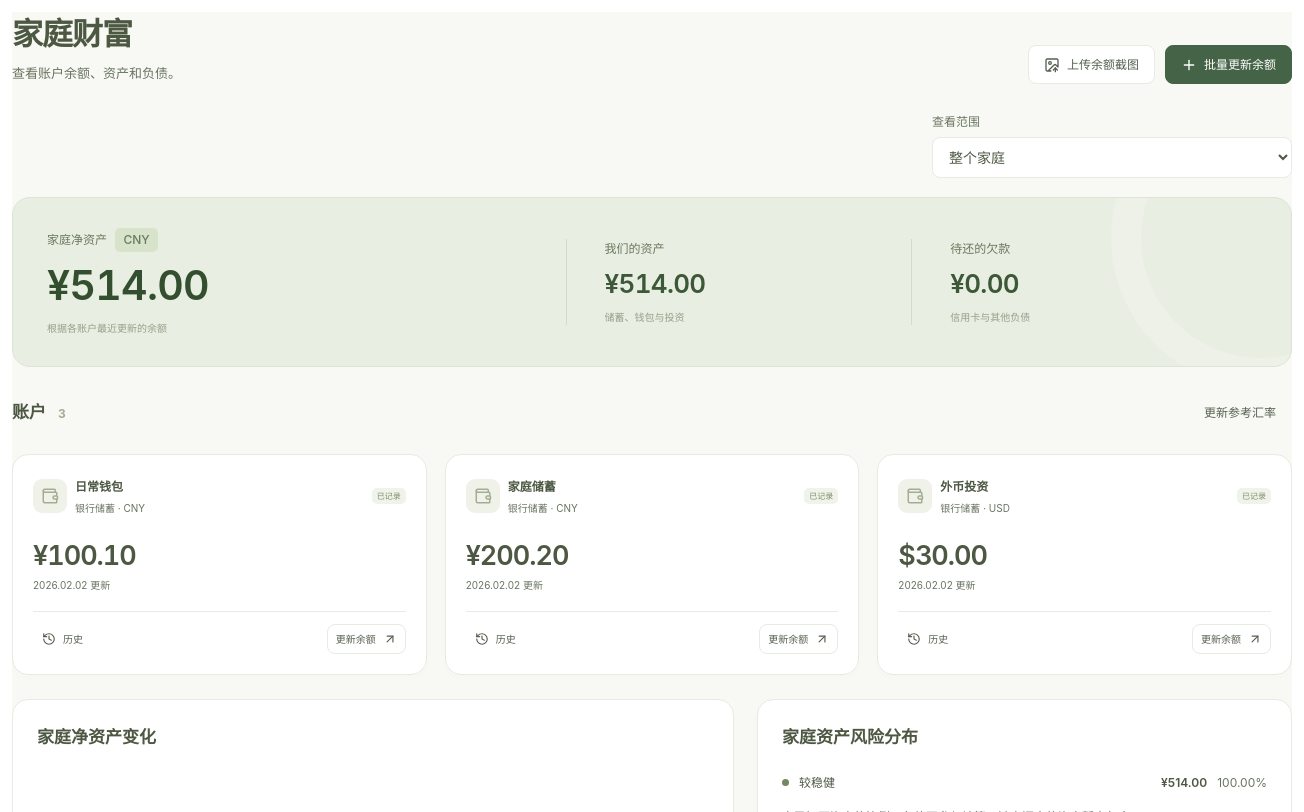
Test case: uses real member names and filters report accounts, totals and risk without changing shared family sections
Check: the text "家庭净资产" is shown, box [47,232,107,247]
Select "小林" in the dropdown named "财富账户归属": (1112,158) [932,137,1292,178]
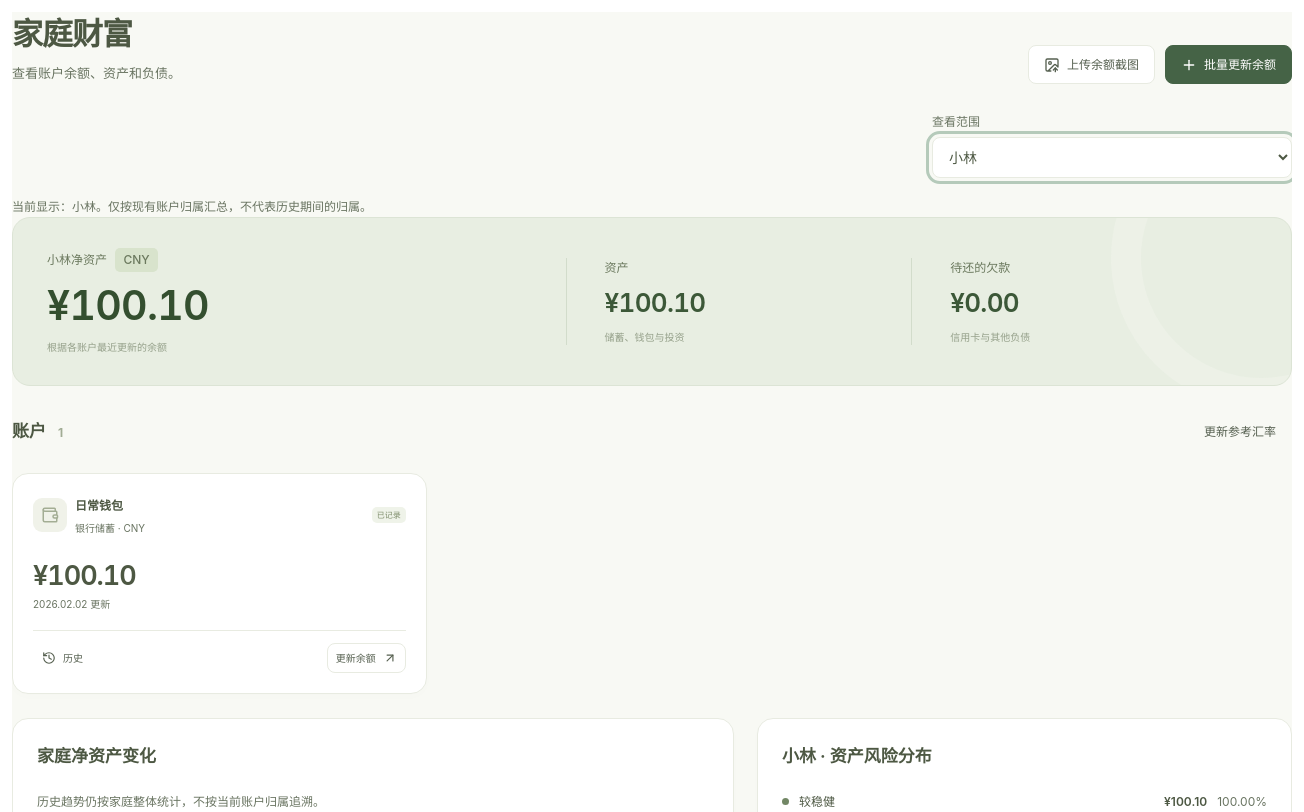
Check: the text "小林净资产" is shown, box [47,252,107,267]
Check: the text with class "count" reads "1", box [58,425,63,440]
Check: the text "家庭储蓄" is gone
Select "小夏" in the dropdown named "财富账户归属": (1112,158) [932,137,1292,178]
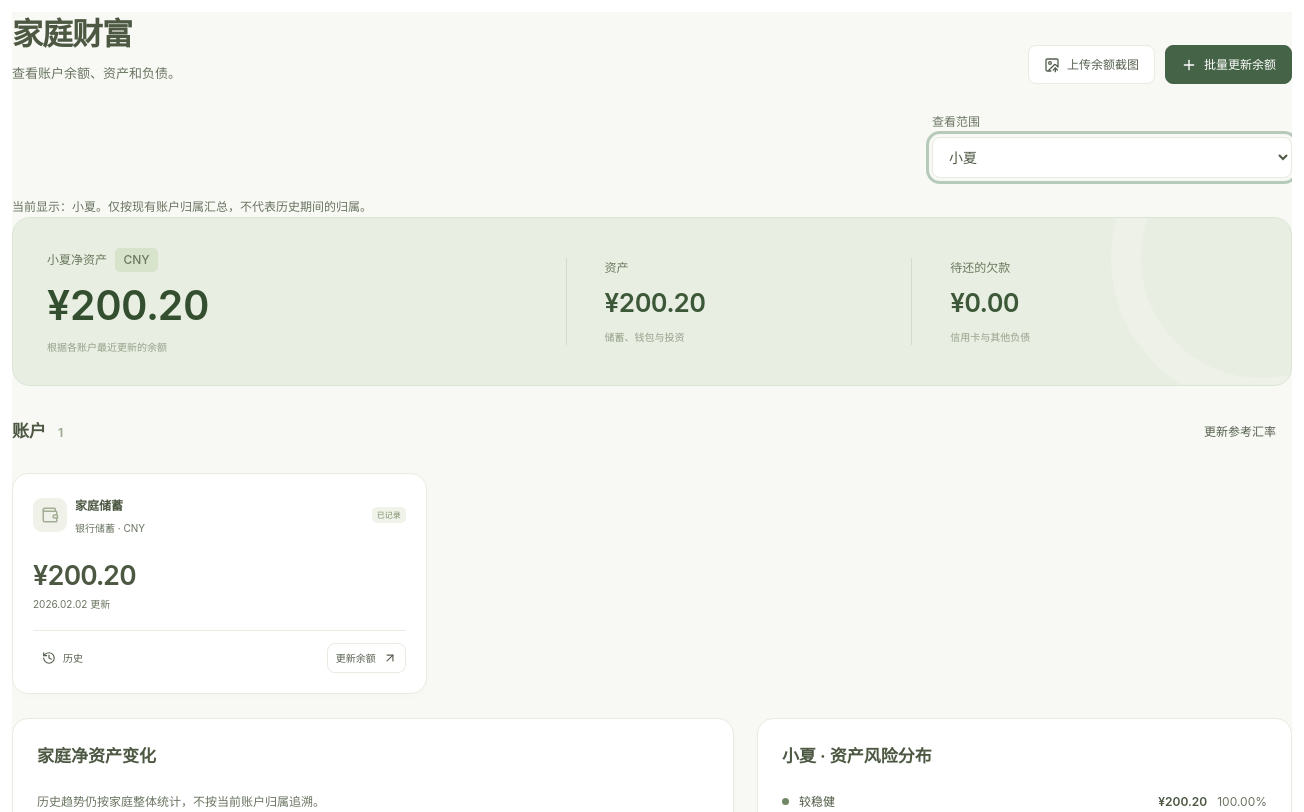
Check: the text "小夏净资产" is shown, box [47,252,107,267]
Check: the text "家庭储蓄" is shown, box [75,498,123,513]
Select "未分配账户" in the dropdown named "财富账户归属": (1112,158) [932,137,1292,178]
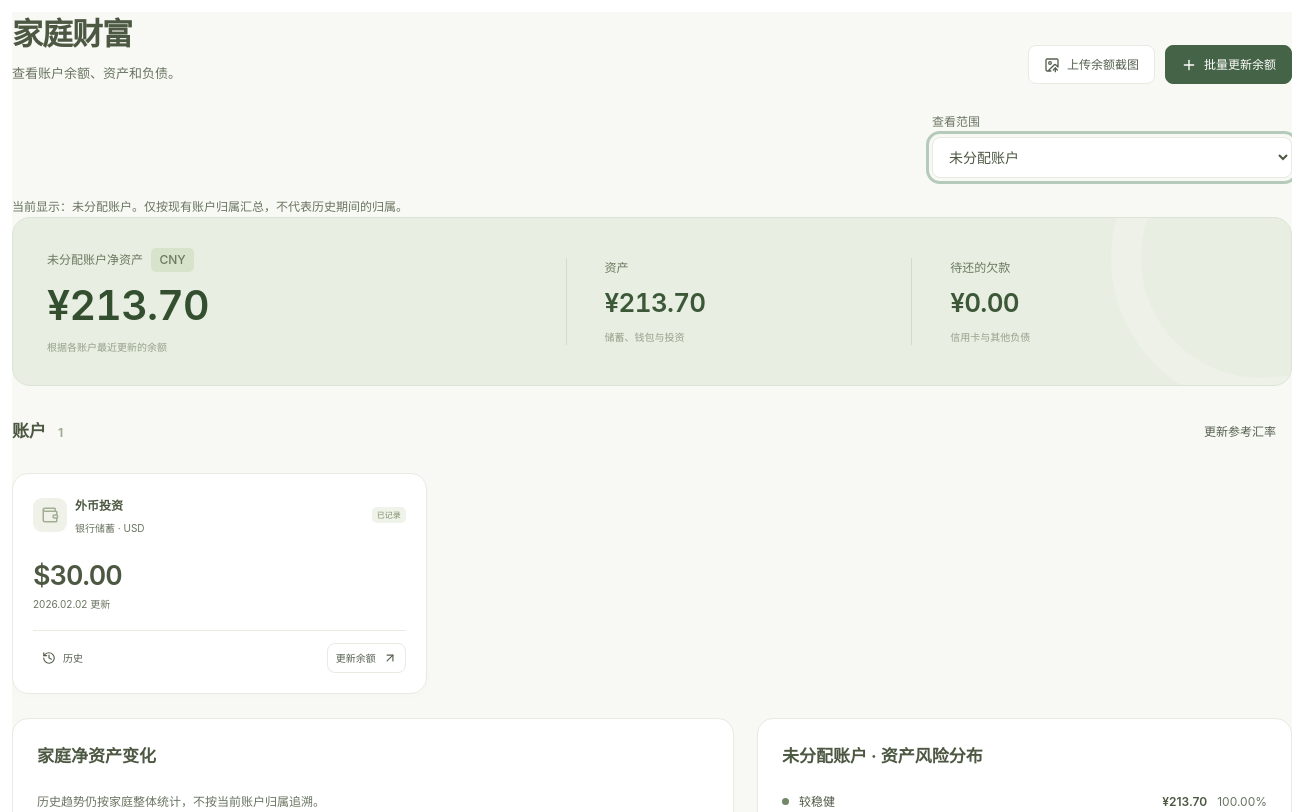
Check: the text "未分配账户净资产" is shown, box [47,252,143,267]
Check: the text "外币投资" is shown, box [75,498,123,513]
Check: the text "家庭储蓄" is gone
Select "整个家庭" in the dropdown named "财富账户归属": (1112,158) [932,137,1292,178]
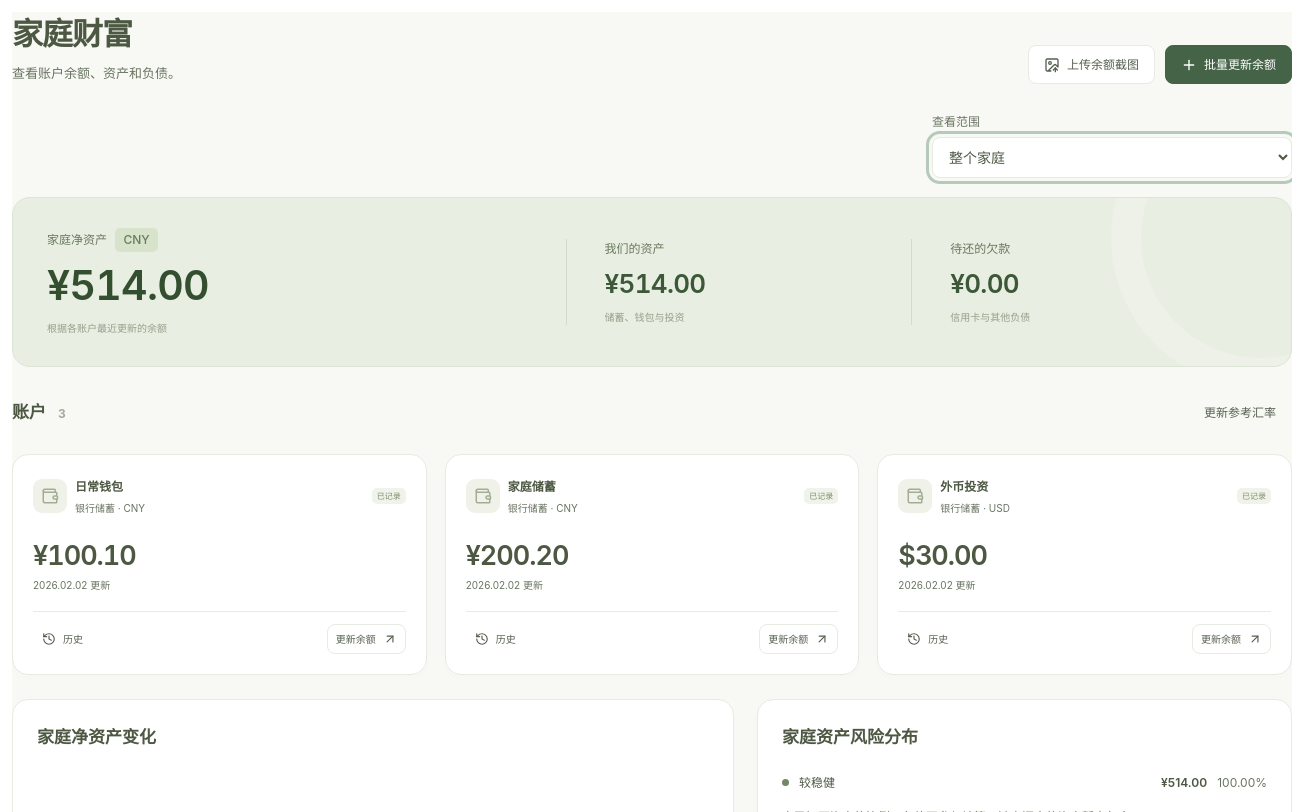
Check: the text "家庭净资产" is shown, box [47,232,107,247]
Check: the number of elements with class "account-card" is 3, box [12,454,427,675]; [445,454,859,675]; [877,454,1292,675]
